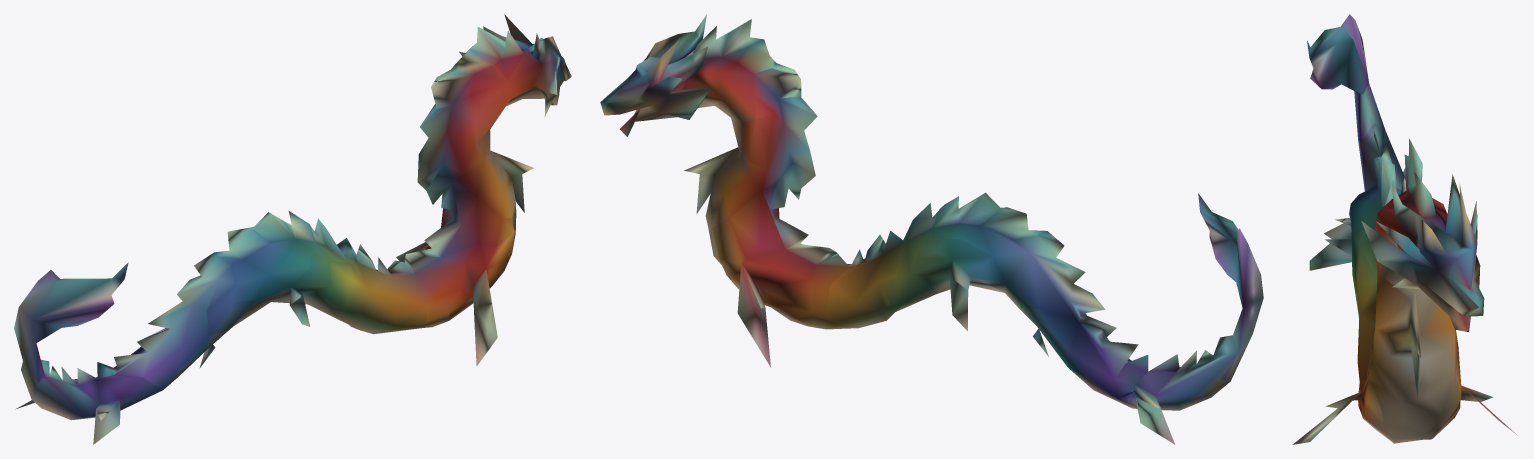
Rendered from beast-rainbow.lod.glb.
The picture shows the model from 3 angles, left to right: view 1: azimuth 30°, elevation 25°; view 2: azimuth 150°, elevation 25°; view 3: azimuth 270°, elevation 25°; orthographic projection. The views are drawn at different scales.
Parts seen in each view (by area): view 1: tripo_node_31c4e431-3ee6-4c73-84fb-2b1b1660b43c; view 2: tripo_node_31c4e431-3ee6-4c73-84fb-2b1b1660b43c; view 3: tripo_node_31c4e431-3ee6-4c73-84fb-2b1b1660b43c.
Boxes of the visible parts, bbox=[...] form: tripo_node_31c4e431-3ee6-4c73-84fb-2b1b1660b43c: bbox=[14, 14, 571, 444]; tripo_node_31c4e431-3ee6-4c73-84fb-2b1b1660b43c: bbox=[600, 14, 1263, 444]; tripo_node_31c4e431-3ee6-4c73-84fb-2b1b1660b43c: bbox=[1292, 14, 1517, 444].
Bounding box in the file's own units: 0.9952 × 0.4636 × 0.282.
